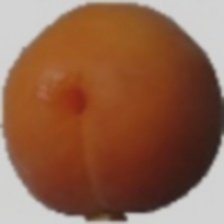apricot: (30, 17, 223, 172)
